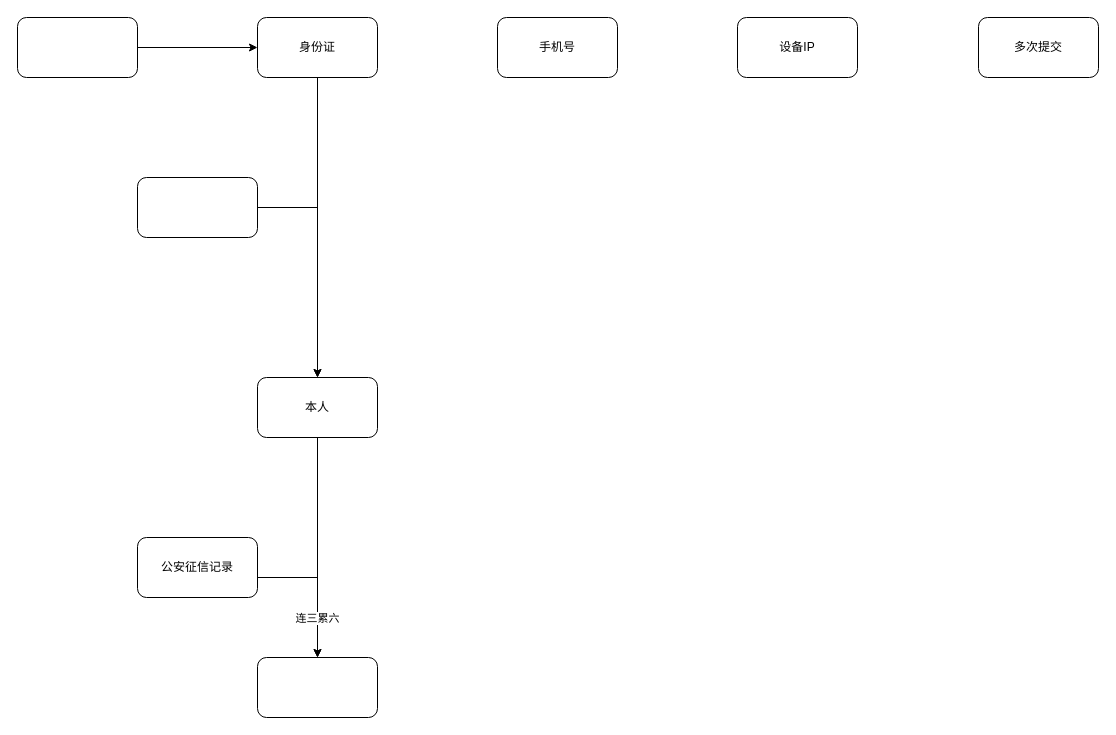
Some shapes in this 1116 by 735 pixel diagram are drawn without their labels. Each missing label, with the centre of its shape:
姓名: point (77, 47)
征信记录良好: point (317, 687)
活体人脸识别: point (197, 207)
